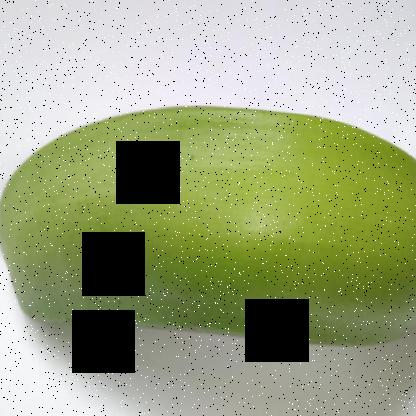freshunripe: (0, 90, 415, 364)
